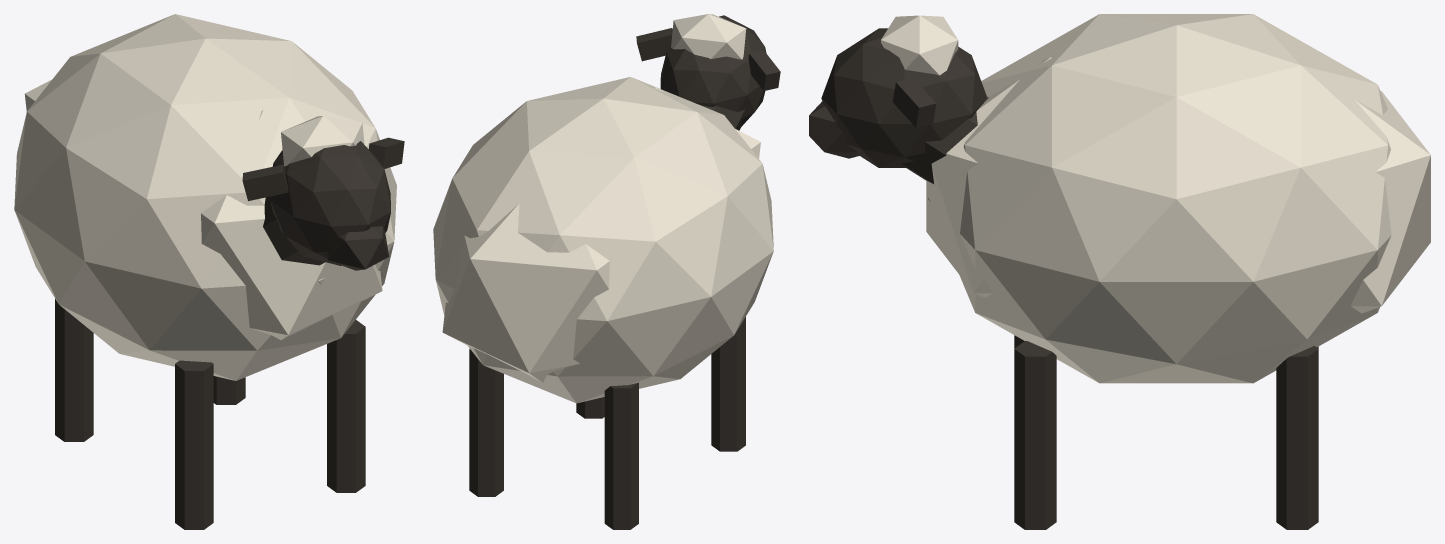
Rendered from fauna_lamb.glb.
3 renders of one model, left to right at view 1: azimuth 30°, elevation 25°; view 2: azimuth 150°, elevation 25°; view 3: azimuth 270°, elevation 25°, orthographic. The views are drawn at different scales.
Parts seen in each view (by area): view 1: fauna_lamb; view 2: fauna_lamb; view 3: fauna_lamb.
Boxes of the visible parts, x1,y1,x2,y2 form: fauna_lamb: (14, 14, 404, 529); fauna_lamb: (433, 14, 780, 529); fauna_lamb: (809, 14, 1430, 529).
Size of the model in its own units: 0.4892 by 0.64 by 0.7738.
